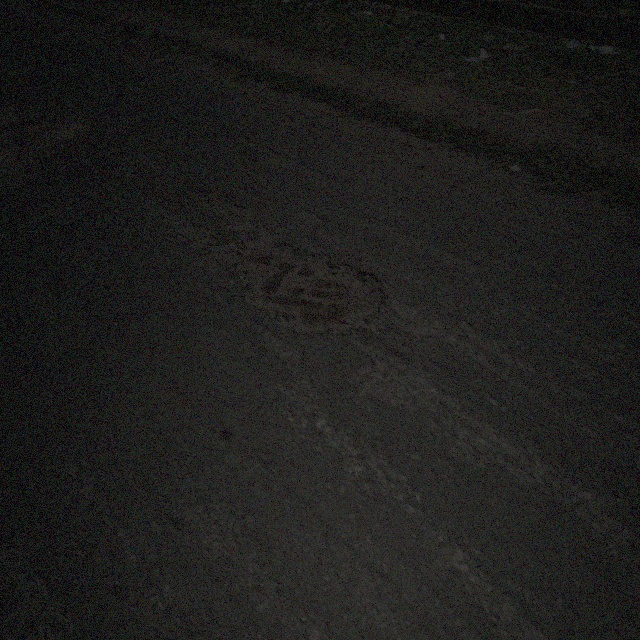pothole: (215, 230, 388, 336), (178, 183, 236, 213)
